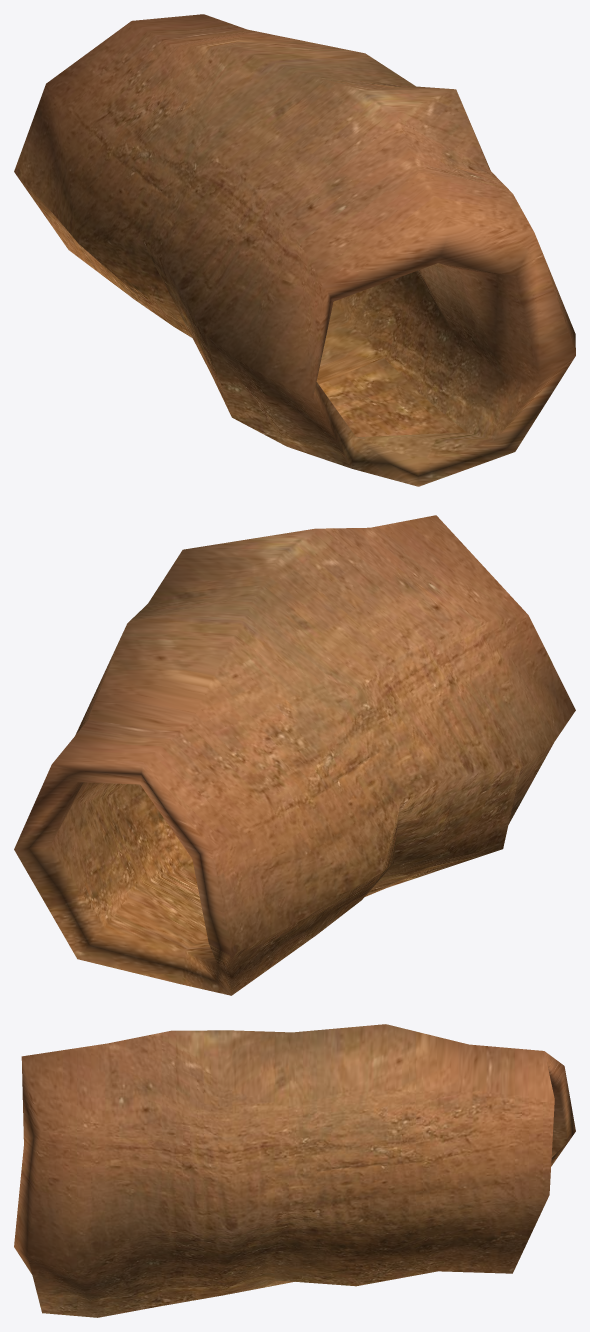
File: floatingTunnel-01.fbx
3 views of the same model, one above another, from view 1: azimuth 30°, elevation 25°; view 2: azimuth 150°, elevation 25°; view 3: azimuth 270°, elevation 25° (orthographic). The views are drawn at different scales.
Visible parts, largest first — view 1: 01- floatingTunnel; view 2: 01- floatingTunnel; view 3: 01- floatingTunnel.
Boxes of the visible parts, left/top/right/bottom form: 01- floatingTunnel: left=14, top=14, right=575, bottom=486; 01- floatingTunnel: left=14, top=515, right=575, bottom=995; 01- floatingTunnel: left=14, top=1024, right=575, bottom=1317.
Bounding box in the file's own units: 8932 × 8385 × 14659.
